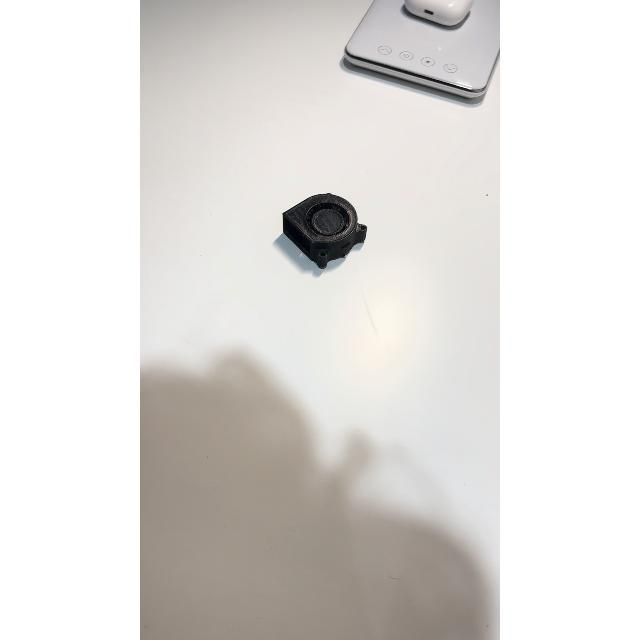Pieza3: (272, 185, 372, 275)
